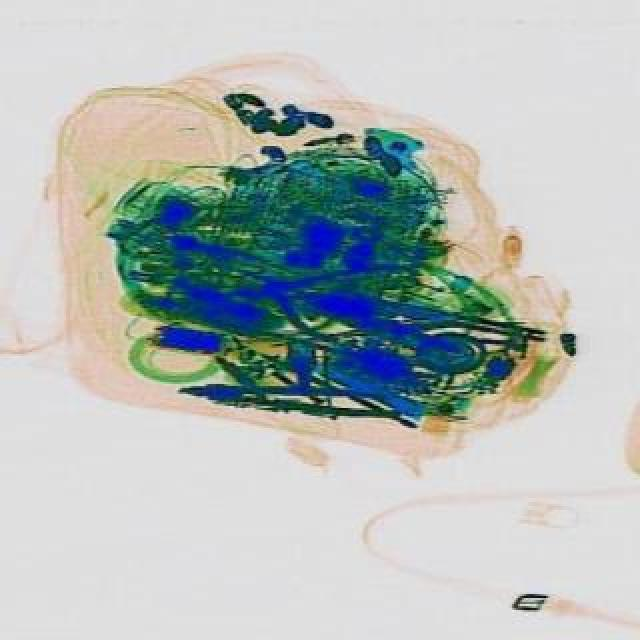wrench: (232, 236, 406, 352), (176, 374, 396, 418)
